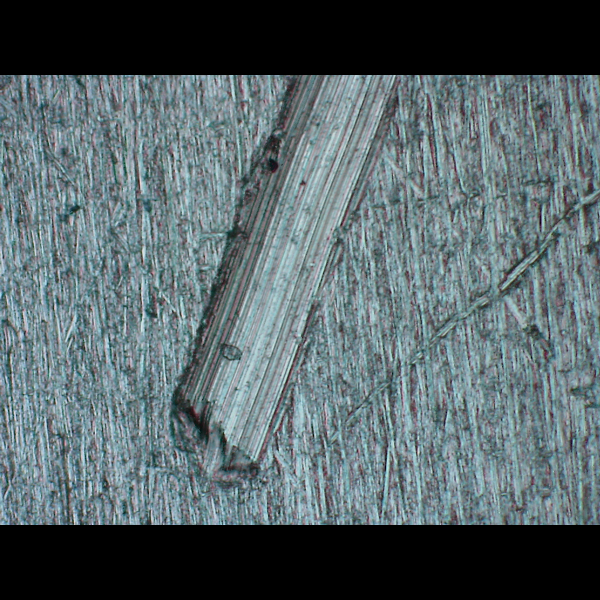d: (160, 74, 408, 502)
